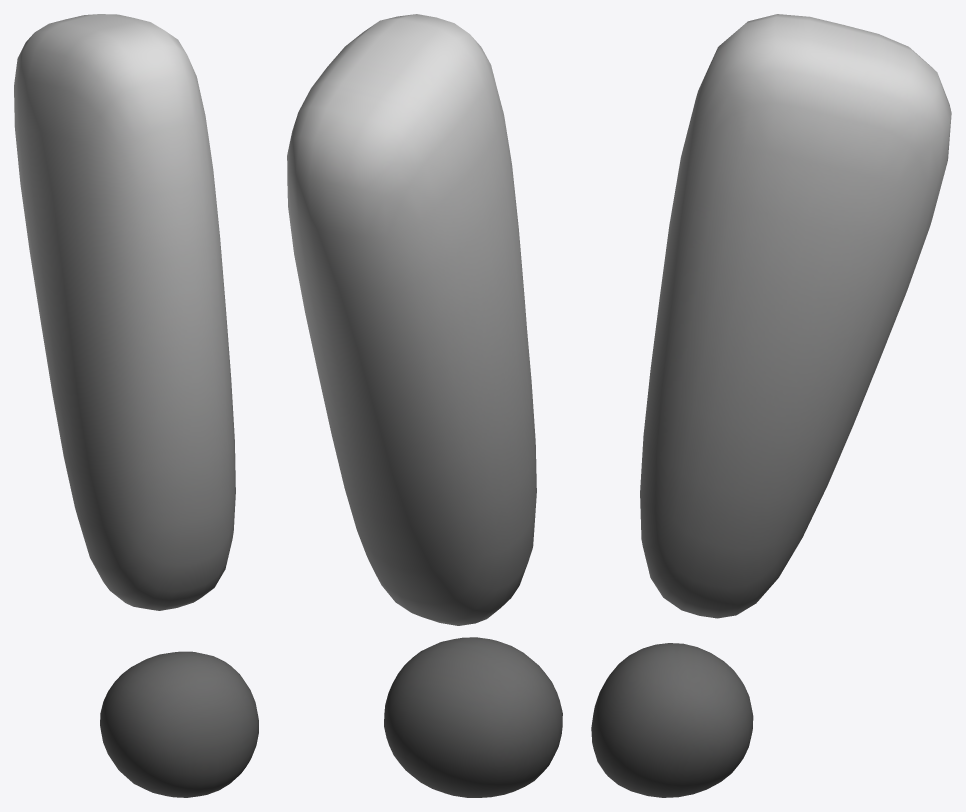
The model's file is ExclamationMarkTripleBWOne.dae.
3 renders of one model, left to right at view 1: azimuth 30°, elevation 25°; view 2: azimuth 150°, elevation 25°; view 3: azimuth 270°, elevation 25°, orthographic. The views are drawn at different scales.
Visible parts, largest first — view 1: Cube_003; view 2: Cube_003; view 3: Cube_003.
Boxes of the visible parts, x1,y1,x2,y2 form: Cube_003: (14, 14, 258, 797); Cube_003: (287, 14, 562, 797); Cube_003: (591, 14, 951, 797).
Bounding box in the file's own units: 0.3883 × 0.7706 × 1.8.
Materials: 1 (1 with a texture image).
